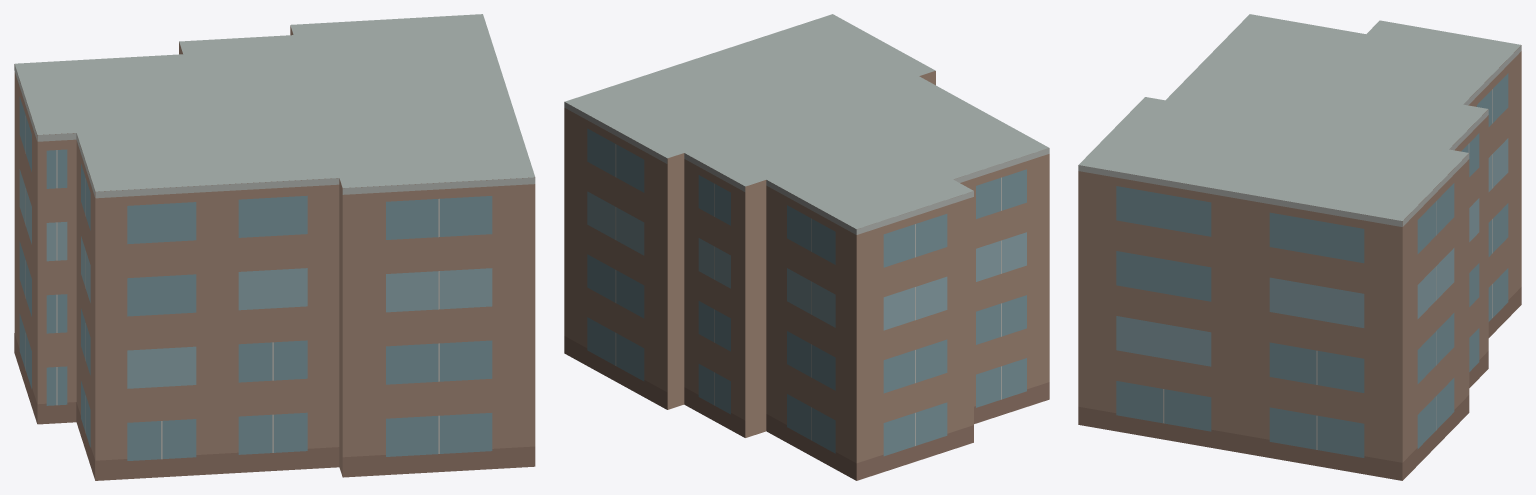
The model's file is survey-upis-32539467.glb.
3 renders of one model, left to right at view 1: azimuth 30°, elevation 25°; view 2: azimuth 150°, elevation 25°; view 3: azimuth 270°, elevation 25°, orthographic. The views are drawn at different scales.
Parts seen in each view (by area): view 1: survey-upis-32539467.tmp; view 2: survey-upis-32539467.tmp; view 3: survey-upis-32539467.tmp.
Boxes of the visible parts, <box> form: survey-upis-32539467.tmp: <box>14,14,535,480</box>; survey-upis-32539467.tmp: <box>564,14,1049,480</box>; survey-upis-32539467.tmp: <box>1078,14,1521,480</box>.
Size of the model in its own units: 17.96 by 10.5 by 16.24.
